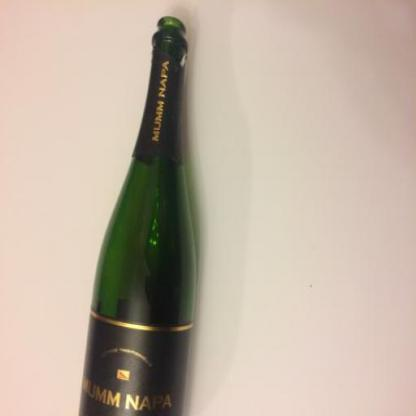trash: (75, 13, 203, 413)
